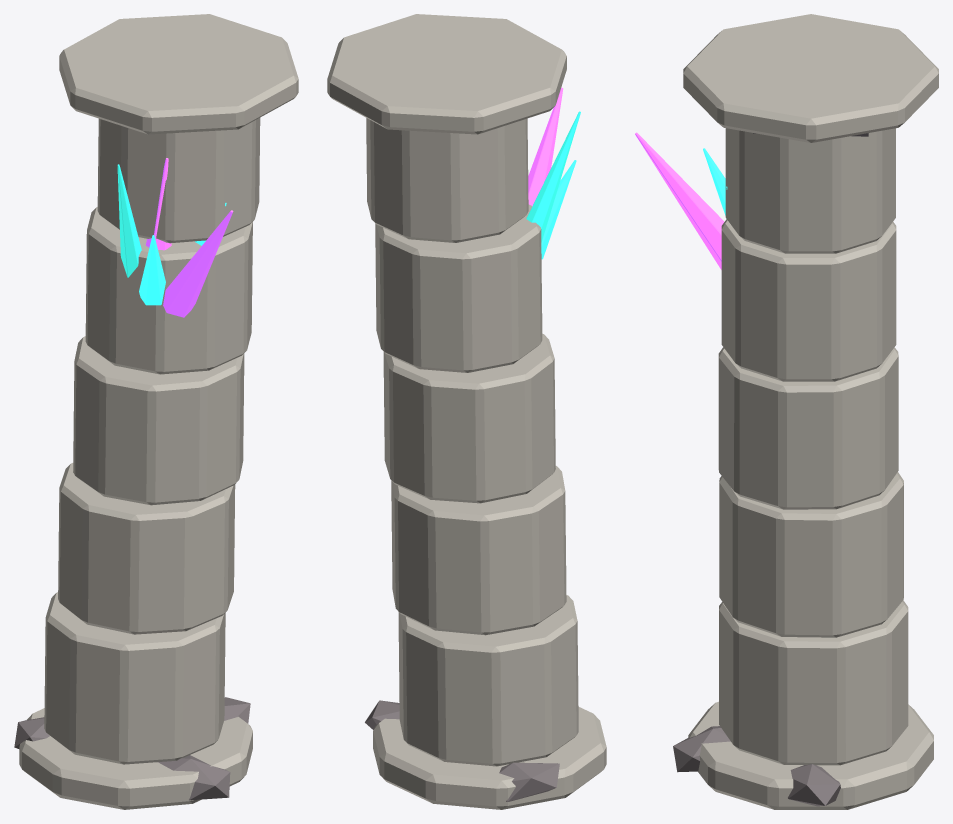
File: runtime.glb
3 views of the same model, side by side, from view 1: azimuth 30°, elevation 25°; view 2: azimuth 150°, elevation 25°; view 3: azimuth 270°, elevation 25° (orthographic). The views are drawn at different scales.
Parts seen in each view (by area): view 1: crystal-ruins-damaged-column-v07_shaft_00, crystal-ruins-damaged-column-v07_shaft_01, crystal-ruins-damaged-column-v07_capital, crystal-ruins-damaged-column-v07_shaft_02, crystal-ruins-damaged-column-v07_shaft_03, crystal-ruins-damaged-column-v07_shaft_04, crystal-ruins-damaged-column-v07_base, crystal-ruins-damaged-column-v07_crystal_04_nocol, crystal-ruins-damaged-column-v07_deposit_02_nocol, crystal-ruins-damaged-column-v07_crystal_02_nocol, crystal-ruins-damaged-column-v07_crystal_03_nocol, crystal-ruins-damaged-column-v07_deposit_01_nocol (+1 smaller); view 2: crystal-ruins-damaged-column-v07_shaft_00, crystal-ruins-damaged-column-v07_shaft_01, crystal-ruins-damaged-column-v07_capital, crystal-ruins-damaged-column-v07_shaft_02, crystal-ruins-damaged-column-v07_shaft_03, crystal-ruins-damaged-column-v07_shaft_04, crystal-ruins-damaged-column-v07_base, crystal-ruins-damaged-column-v07_deposit_01_nocol, crystal-ruins-damaged-column-v07_crystal_02_nocol, crystal-ruins-damaged-column-v07_crystal_04_nocol, crystal-ruins-damaged-column-v07_crystal_03_nocol, crystal-ruins-damaged-column-v07_deposit_00_nocol; view 3: crystal-ruins-damaged-column-v07_capital, crystal-ruins-damaged-column-v07_shaft_00, crystal-ruins-damaged-column-v07_shaft_01, crystal-ruins-damaged-column-v07_shaft_02, crystal-ruins-damaged-column-v07_shaft_03, crystal-ruins-damaged-column-v07_shaft_04, crystal-ruins-damaged-column-v07_base, crystal-ruins-damaged-column-v07_crystal_04_nocol, crystal-ruins-damaged-column-v07_deposit_00_nocol, crystal-ruins-damaged-column-v07_deposit_02_nocol.
Boxes of the visible parts, box(x1,y1,x2,y2) form: crystal-ruins-damaged-column-v07_shaft_00: box(44, 592, 225, 764); crystal-ruins-damaged-column-v07_shaft_01: box(58, 463, 235, 634); crystal-ruins-damaged-column-v07_capital: box(59, 14, 298, 134); crystal-ruins-damaged-column-v07_shaft_02: box(73, 336, 244, 505); crystal-ruins-damaged-column-v07_shaft_03: box(85, 207, 252, 374); crystal-ruins-damaged-column-v07_shaft_04: box(97, 118, 260, 243); crystal-ruins-damaged-column-v07_base: box(19, 708, 252, 809); crystal-ruins-damaged-column-v07_crystal_04_nocol: box(163, 210, 233, 317); crystal-ruins-damaged-column-v07_deposit_02_nocol: box(158, 755, 230, 800); crystal-ruins-damaged-column-v07_crystal_02_nocol: box(117, 164, 141, 277); crystal-ruins-damaged-column-v07_crystal_03_nocol: box(139, 235, 165, 305); crystal-ruins-damaged-column-v07_deposit_01_nocol: box(14, 717, 49, 748); crystal-ruins-damaged-column-v07_shaft_00: box(398, 595, 578, 766); crystal-ruins-damaged-column-v07_shaft_01: box(391, 466, 566, 635); crystal-ruins-damaged-column-v07_capital: box(327, 14, 566, 134); crystal-ruins-damaged-column-v07_shaft_02: box(383, 333, 555, 503); crystal-ruins-damaged-column-v07_shaft_03: box(375, 204, 542, 372); crystal-ruins-damaged-column-v07_shaft_04: box(366, 118, 528, 242); crystal-ruins-damaged-column-v07_base: box(373, 707, 606, 809); crystal-ruins-damaged-column-v07_deposit_01_nocol: box(499, 762, 559, 801); crystal-ruins-damaged-column-v07_crystal_02_nocol: box(526, 111, 580, 242); crystal-ruins-damaged-column-v07_crystal_04_nocol: box(528, 87, 563, 206); crystal-ruins-damaged-column-v07_crystal_03_nocol: box(541, 160, 576, 259); crystal-ruins-damaged-column-v07_deposit_00_nocol: box(365, 700, 399, 729); crystal-ruins-damaged-column-v07_capital: box(683, 14, 938, 142); crystal-ruins-damaged-column-v07_shaft_00: box(719, 600, 908, 765); crystal-ruins-damaged-column-v07_shaft_01: box(719, 472, 903, 637); crystal-ruins-damaged-column-v07_shaft_02: box(718, 347, 898, 509); crystal-ruins-damaged-column-v07_shaft_03: box(721, 219, 896, 381); crystal-ruins-damaged-column-v07_shaft_04: box(725, 128, 895, 253); crystal-ruins-damaged-column-v07_base: box(688, 701, 933, 809); crystal-ruins-damaged-column-v07_crystal_04_nocol: box(635, 132, 724, 269); crystal-ruins-damaged-column-v07_deposit_00_nocol: box(788, 764, 840, 806); crystal-ruins-damaged-column-v07_deposit_02_nocol: box(673, 726, 730, 772).
Bounding box in the file's own units: 2.72 × 7.25 × 2.77.
